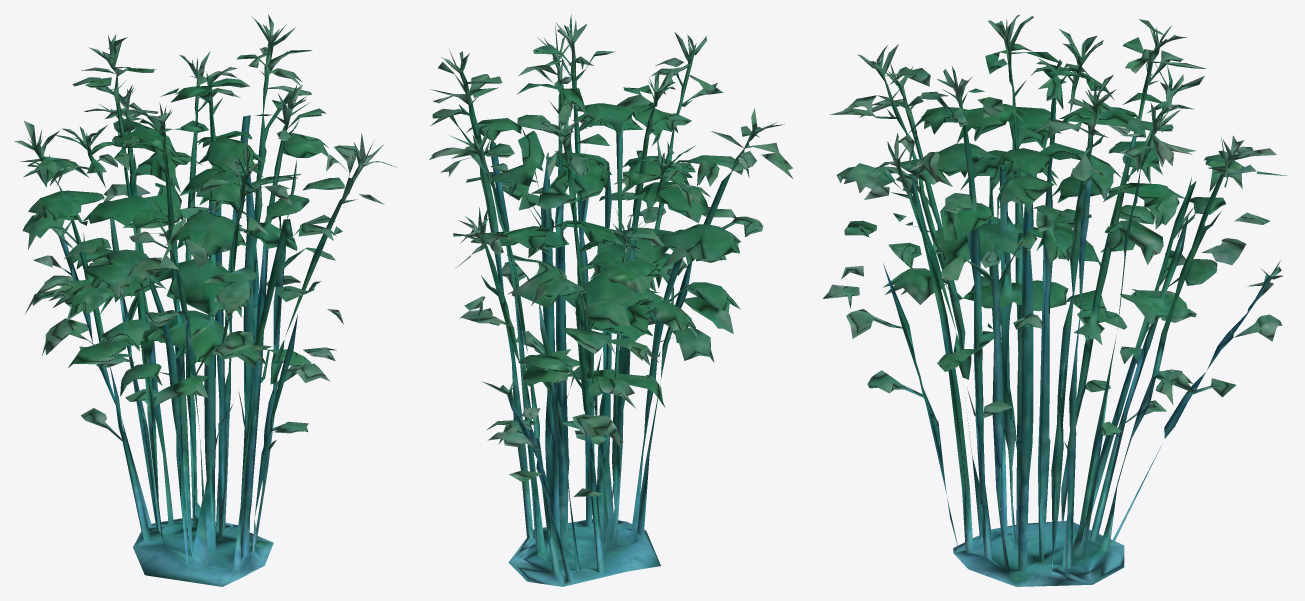
File: bamboo.lod1.glb
The picture shows the model from 3 angles, left to right: view 1: azimuth 30°, elevation 25°; view 2: azimuth 150°, elevation 25°; view 3: azimuth 270°, elevation 25°; orthographic projection. The views are drawn at different scales.
Parts seen in each view (by area): view 1: tripo_node_5b4bbdb5-0e2f-4140-9c3e-ec4384440684; view 2: tripo_node_5b4bbdb5-0e2f-4140-9c3e-ec4384440684; view 3: tripo_node_5b4bbdb5-0e2f-4140-9c3e-ec4384440684.
Part boxes in pixels (<box>): tripo_node_5b4bbdb5-0e2f-4140-9c3e-ec4384440684: <box>14,14,397,586</box>; tripo_node_5b4bbdb5-0e2f-4140-9c3e-ec4384440684: <box>429,14,792,586</box>; tripo_node_5b4bbdb5-0e2f-4140-9c3e-ec4384440684: <box>823,14,1289,586</box>.
Bounding box in the file's own units: 0.5618 × 0.9857 × 0.7917.
1 material, 1 textured.
